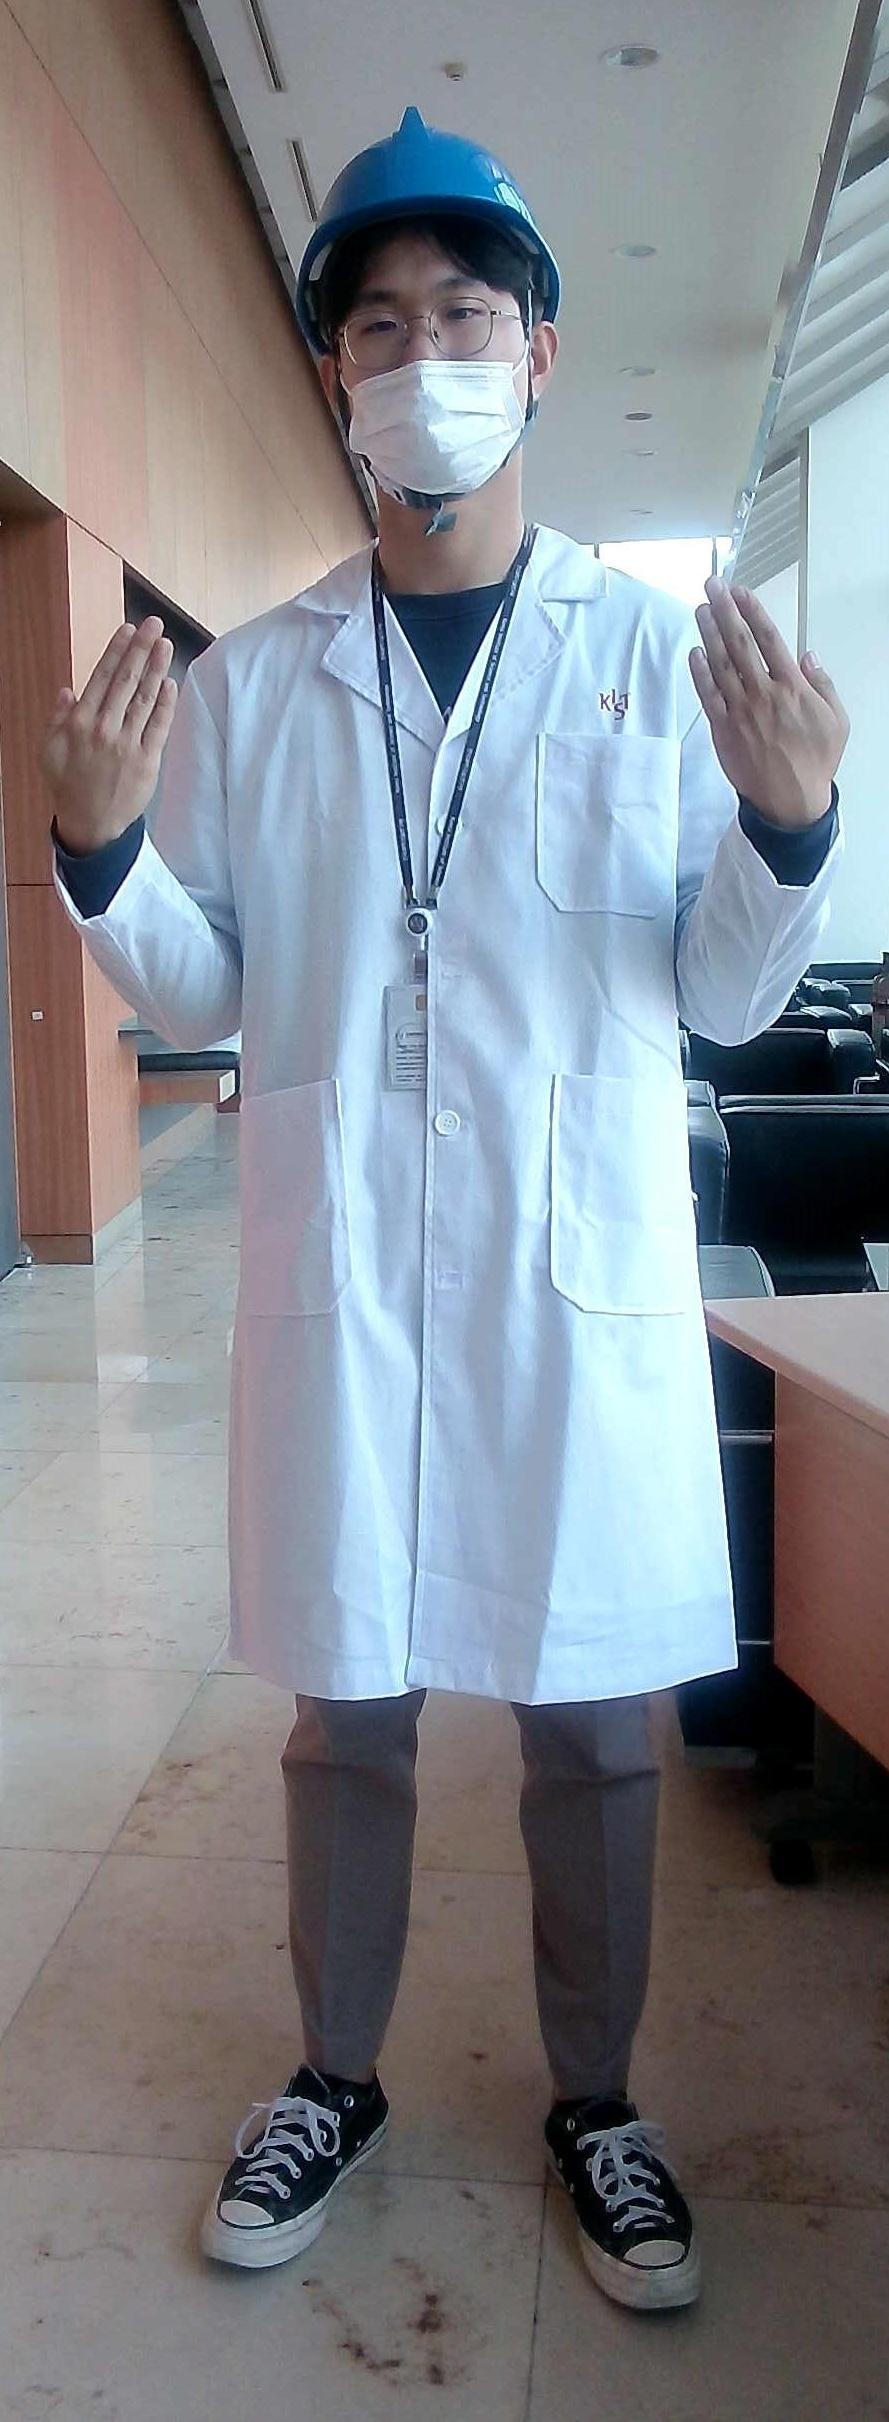lab_coat: (216, 612, 727, 1691)
